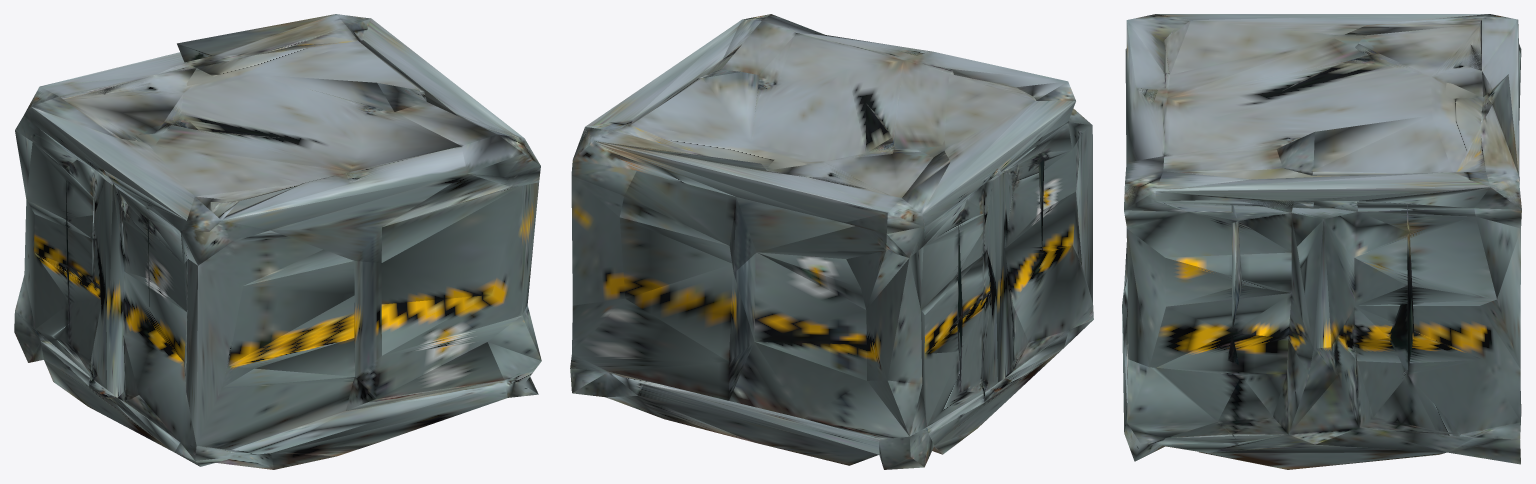
Rendered from cover_half_dock_v1_lod1.glb.
3 renders of one model, left to right at view 1: azimuth 30°, elevation 25°; view 2: azimuth 150°, elevation 25°; view 3: azimuth 270°, elevation 25°, orthographic. The views are drawn at different scales.
Size of the model in its own units: 0.9703 by 0.7379 by 0.8898.
Materials: 1 (1 with a texture image).
